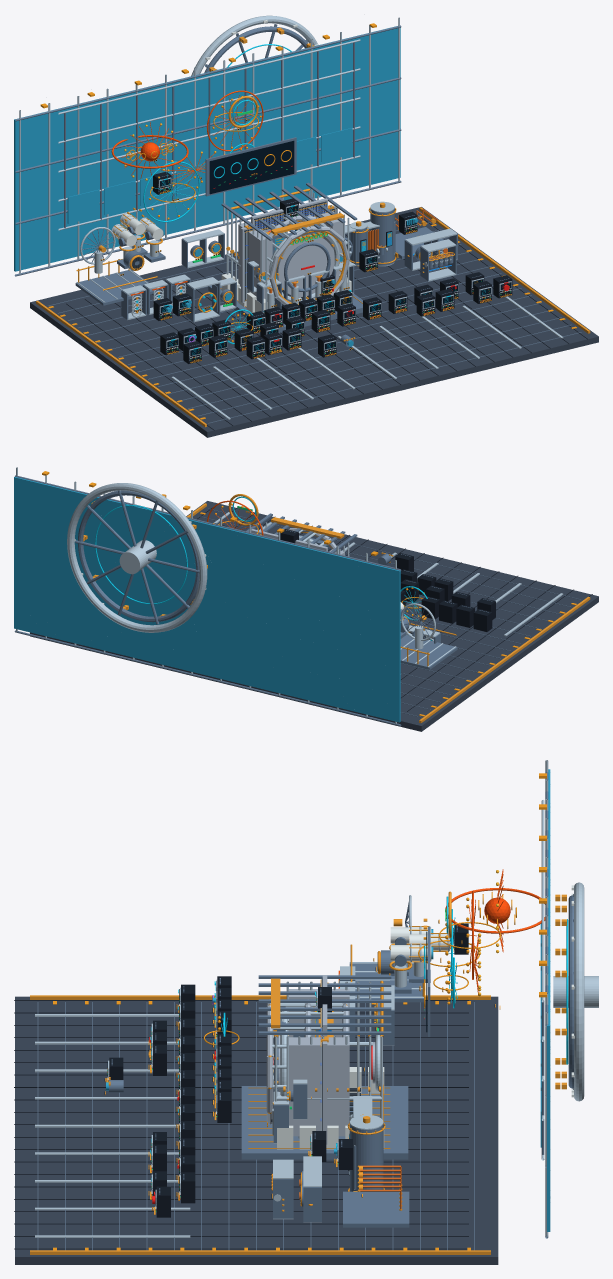
Rendered from Level89_Complete_ArtKit_Showcase.fbx.
The picture shows the model from 3 angles, top to bottom: view 1: azimuth 30°, elevation 25°; view 2: azimuth 150°, elevation 25°; view 3: azimuth 270°, elevation 25°; orthographic projection. The views are drawn at different scales.
Parts seen in each view (by area): view 1: L87_SolarStormPanoramicObservatory_Part_0000, L87_HeliosRadiationDefenseArenaBase_Part_0000, L87_HeliosRadiationDefenseArenaBase_Part_0003, L87_EarthAndHabitatObservationWindow_Part_0002, L87_SolarStormPanoramicObservatory_Part_0001, L87_SolarStormPanoramicObservatory_Part_0002, L87_RadiationDefenseSCADA_Part_0001, L87_EarthAndHabitatObservationWindow_Part_0001, L87_StormShelterPressureHull_Part_0001, L87_HeliosRadiationDefenseArenaBase_Part_0001, L87_EarthAndHabitatObservationWindow_Part_0000, L87_HeliosRadiationDefenseArenaBase_Part_0007 (+15 smaller); view 2: L87_SolarStormPanoramicObservatory_Part_0000, L87_HeliosRadiationDefenseArenaBase_Part_0000, L87_OrbitalStationHabitatExterior_Part_0000, L87_OrbitalStationHabitatExterior_Part_0001, L87_SolarStormPanoramicObservatory_Part_0002, L87_HeliosRadiationDefenseArenaBase_Part_0003, L87_OuterExposureInstrumentPlatform_Part_0000, L87_HeliosRadiationDefenseArenaBase_Part_0004, L87_HeliosRadiationDefenseArenaBase_Part_0001, L87_HeliosRadiationDefenseArenaBase_Part_0007, L87_WaterWallStructuralContainmentFrame_Part_0003, L87_OrbitalStationHabitatExterior_Part_0002 (+6 smaller); view 3: L87_HeliosRadiationDefenseArenaBase_Part_0000, L87_HeliosRadiationDefenseArenaBase_Part_0001, L87_StormShelterPressureHull_Part_0001, L87_StormShelterInteriorSupportDeck_Part_0000, L87_HeliosRadiationDefenseArenaBase_Part_0007, L87_WaterWallStructuralContainmentFrame_Part_0003, L87_HeliosRadiationDefenseArenaBase_Part_0004, L87_HeliosRadiationDefenseArenaBase_Part_0003, L87_OrbitalStationHabitatExterior_Part_0000, L87_StationShieldWaterUtilitySkid_Part_0000, L87_WaterReservoirMain_Part_0000, L87_SolarStormPanoramicObservatory_Part_0000 (+13 smaller).
Boxes of the visible parts, x1,y1,x2,y2 form: L87_SolarStormPanoramicObservatory_Part_0000: [14, 26, 400, 271]; L87_HeliosRadiationDefenseArenaBase_Part_0000: [30, 207, 598, 437]; L87_HeliosRadiationDefenseArenaBase_Part_0003: [48, 215, 581, 423]; L87_EarthAndHabitatObservationWindow_Part_0002: [67, 128, 352, 223]; L87_SolarStormPanoramicObservatory_Part_0001: [19, 17, 399, 274]; L87_SolarStormPanoramicObservatory_Part_0002: [14, 25, 401, 276]; L87_RadiationDefenseSCADA_Part_0001: [209, 140, 294, 194]; L87_EarthAndHabitatObservationWindow_Part_0001: [58, 39, 360, 230]; L87_StormShelterPressureHull_Part_0001: [238, 211, 349, 305]; L87_HeliosRadiationDefenseArenaBase_Part_0001: [66, 235, 550, 430]; L87_EarthAndHabitatObservationWindow_Part_0000: [64, 42, 354, 228]; L87_HeliosRadiationDefenseArenaBase_Part_0007: [171, 296, 563, 419]; L87_SolarStormPanoramicObservatory_Part_0000: [14, 477, 400, 722]; L87_HeliosRadiationDefenseArenaBase_Part_0000: [30, 501, 598, 731]; L87_OrbitalStationHabitatExterior_Part_0000: [67, 483, 207, 632]; L87_OrbitalStationHabitatExterior_Part_0001: [75, 490, 199, 624]; L87_SolarStormPanoramicObservatory_Part_0002: [14, 475, 401, 726]; L87_HeliosRadiationDefenseArenaBase_Part_0003: [198, 508, 581, 717]; L87_OuterExposureInstrumentPlatform_Part_0000: [400, 635, 457, 669]; L87_HeliosRadiationDefenseArenaBase_Part_0004: [186, 503, 590, 723]; L87_HeliosRadiationDefenseArenaBase_Part_0001: [234, 513, 592, 711]; L87_HeliosRadiationDefenseArenaBase_Part_0007: [214, 512, 563, 636]; L87_WaterWallStructuralContainmentFrame_Part_0003: [246, 513, 357, 552]; L87_OrbitalStationHabitatExterior_Part_0002: [95, 505, 187, 604]; L87_HeliosRadiationDefenseArenaBase_Part_0000: [15, 996, 498, 1264]; L87_HeliosRadiationDefenseArenaBase_Part_0001: [14, 1000, 468, 1224]; L87_StormShelterPressureHull_Part_0001: [266, 989, 349, 1136]; L87_StormShelterInteriorSupportDeck_Part_0000: [241, 1086, 408, 1159]; L87_HeliosRadiationDefenseArenaBase_Part_0007: [35, 1014, 190, 1237]; L87_WaterWallStructuralContainmentFrame_Part_0003: [258, 975, 391, 1034]; L87_HeliosRadiationDefenseArenaBase_Part_0004: [30, 995, 490, 1254]; L87_HeliosRadiationDefenseArenaBase_Part_0003: [37, 1002, 474, 1250]; L87_OrbitalStationHabitatExterior_Part_0000: [553, 882, 598, 1101]; L87_StationShieldWaterUtilitySkid_Part_0000: [343, 1191, 409, 1227]; L87_WaterReservoirMain_Part_0000: [349, 1122, 383, 1191]; L87_SolarStormPanoramicObservatory_Part_0000: [547, 769, 550, 1231].
Size of the model in its own units: 3250 by 1940 by 3085.
